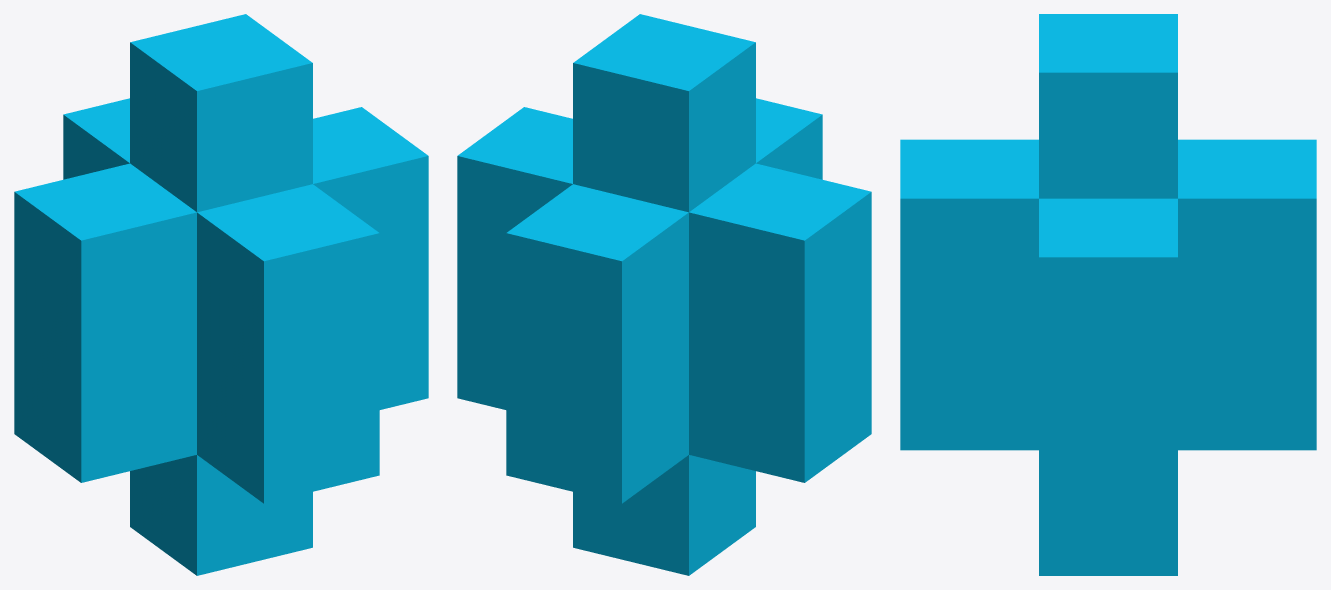
The model's file is Exp.obj.
The picture shows the model from 3 angles, left to right: view 1: azimuth 30°, elevation 25°; view 2: azimuth 150°, elevation 25°; view 3: azimuth 270°, elevation 25°; orthographic projection. The views are drawn at different scales.
Size of the model in its own units: 0.3 by 0.4 by 0.3.
